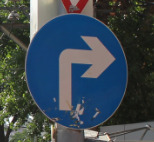right_turn: (24, 12, 129, 131)
